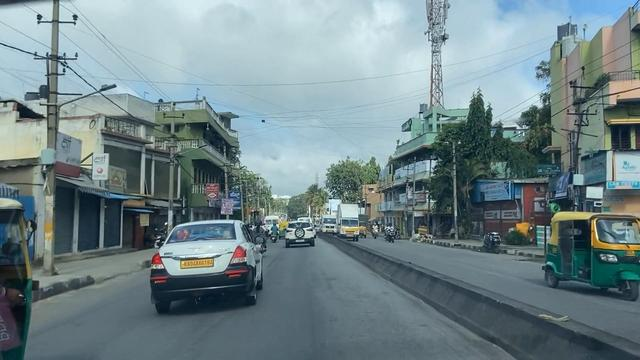LMV: (151, 223, 264, 307), (285, 223, 315, 247)
